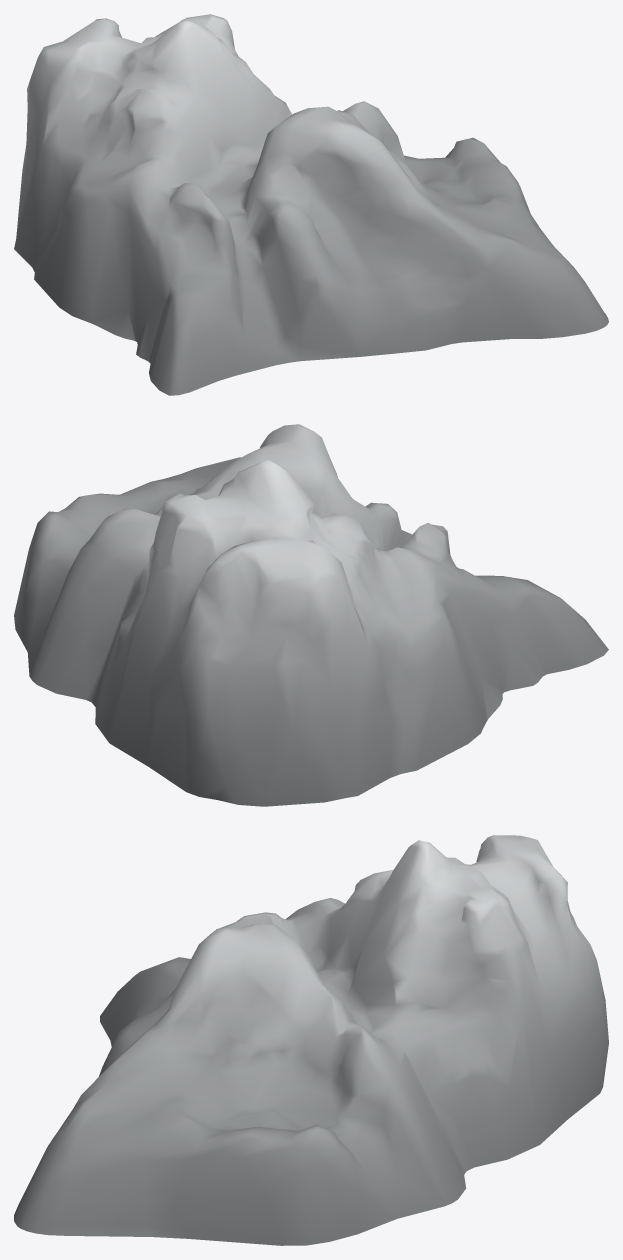
File: Mountain_14.glb
3 views of the same model, one above another, from view 1: azimuth 30°, elevation 25°; view 2: azimuth 150°, elevation 25°; view 3: azimuth 270°, elevation 25° (orthographic). The views are drawn at different scales.
Visible parts, largest first — view 1: Mountain_14; view 2: Mountain_14; view 3: Mountain_14.
Boxes of the visible parts, x1,y1,x2,y2 form: Mountain_14: (14, 14, 608, 395); Mountain_14: (14, 424, 608, 806); Mountain_14: (14, 835, 608, 1245).
Size of the model in its own units: 15.78 by 8.08 by 16.88.
Materials: 1 (1 with a texture image).
